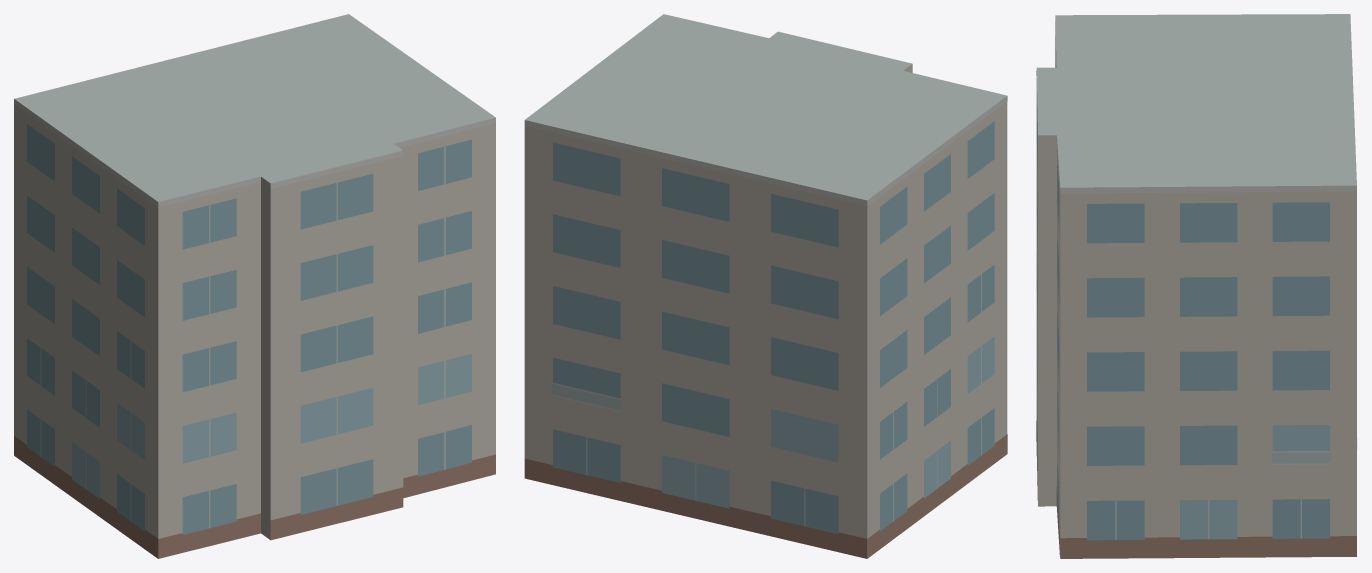
File: survey-upis-32949052.glb
3 views of the same model, side by side, from view 1: azimuth 30°, elevation 25°; view 2: azimuth 150°, elevation 25°; view 3: azimuth 270°, elevation 25° (orthographic). The views are drawn at different scales.
Visible parts, largest first — view 1: survey-upis-32949052.tmp; view 2: survey-upis-32949052.tmp; view 3: survey-upis-32949052.tmp.
Part boxes in pixels (box(x1,y1,x2,y2)): survey-upis-32949052.tmp: box(14, 14, 495, 558); survey-upis-32949052.tmp: box(524, 14, 1007, 558); survey-upis-32949052.tmp: box(1036, 14, 1357, 558).
Bounding box in the file's own units: 15.51 × 15.45 × 12.11.
